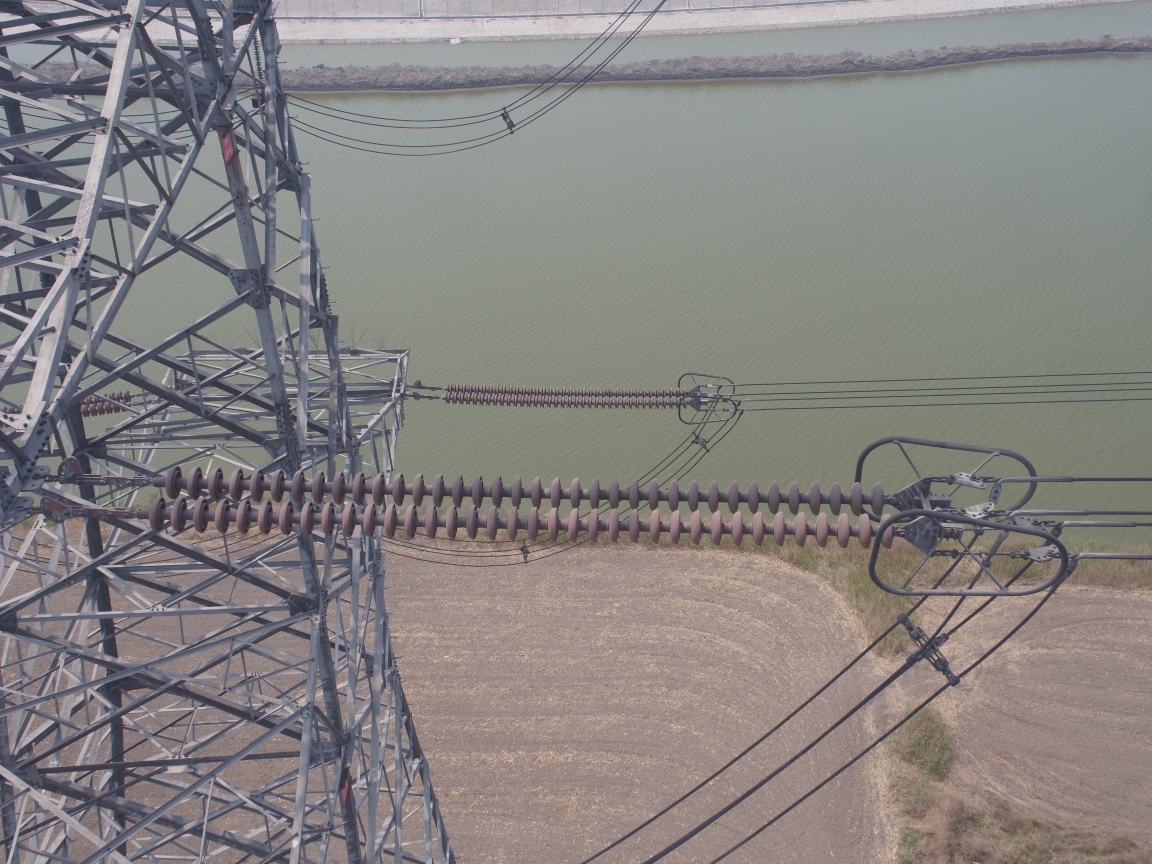insulator: (94, 460, 920, 551), (423, 380, 698, 412)
